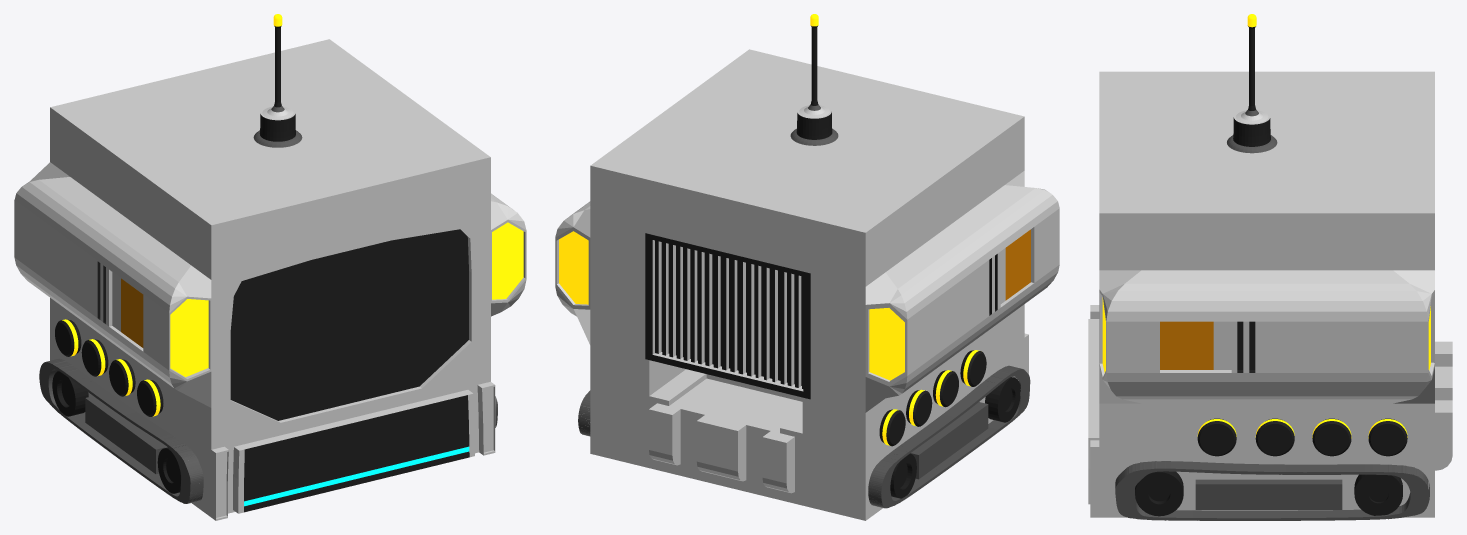
File: BOBCube.fbx
The picture shows the model from 3 angles, left to right: view 1: azimuth 30°, elevation 25°; view 2: azimuth 150°, elevation 25°; view 3: azimuth 270°, elevation 25°; orthographic projection. The views are drawn at different scales.
Visible parts, largest first — view 1: BOB Cube; view 2: BOB Cube; view 3: BOB Cube.
Part boxes in pixels (box(x1,y1,x2,y2)): BOB Cube: box(14, 14, 526, 520); BOB Cube: box(555, 14, 1059, 520); BOB Cube: box(1088, 14, 1452, 520).
Bounding box in the file's own units: 256 × 217 × 284.
